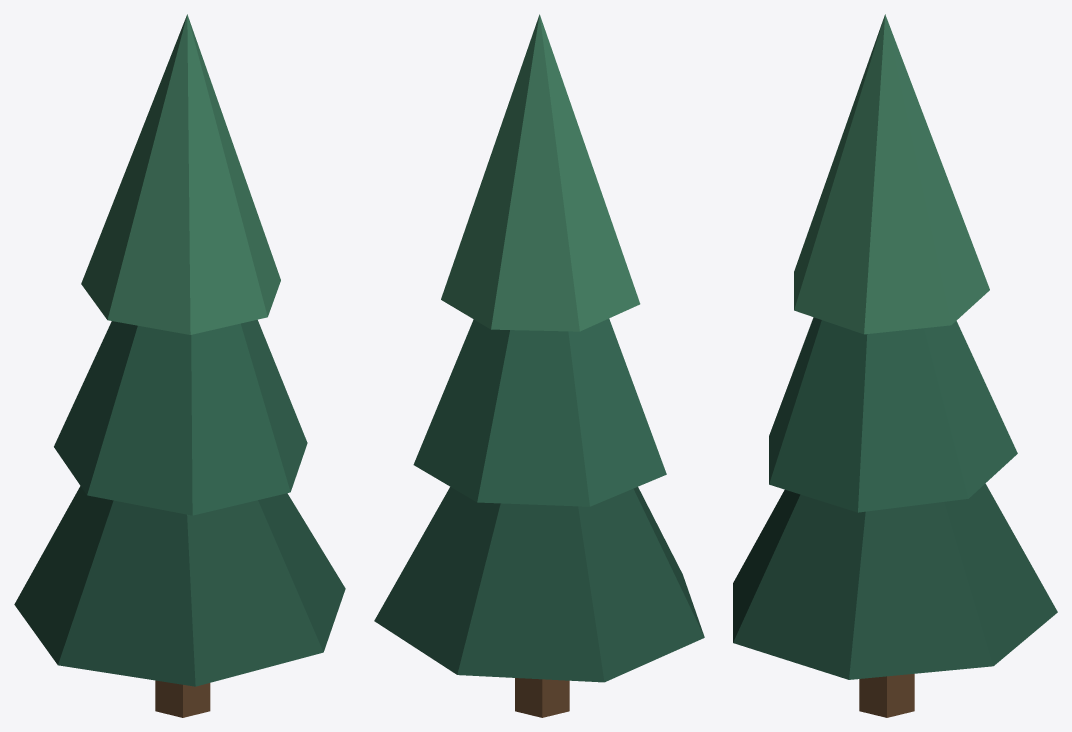
File: tree_conifer_b.glb
3 renders of one model, left to right at view 1: azimuth 30°, elevation 25°; view 2: azimuth 150°, elevation 25°; view 3: azimuth 270°, elevation 25°, orthographic.
Parts seen in each view (by area): view 1: tree_conifer_b; view 2: tree_conifer_b; view 3: tree_conifer_b.
Part boxes in pixels (x1,y1,x2,y2): tree_conifer_b: [14, 14, 345, 717]; tree_conifer_b: [374, 14, 704, 717]; tree_conifer_b: [733, 14, 1057, 717].
Size of the model in its own units: 1.15 by 2.64 by 1.12.
